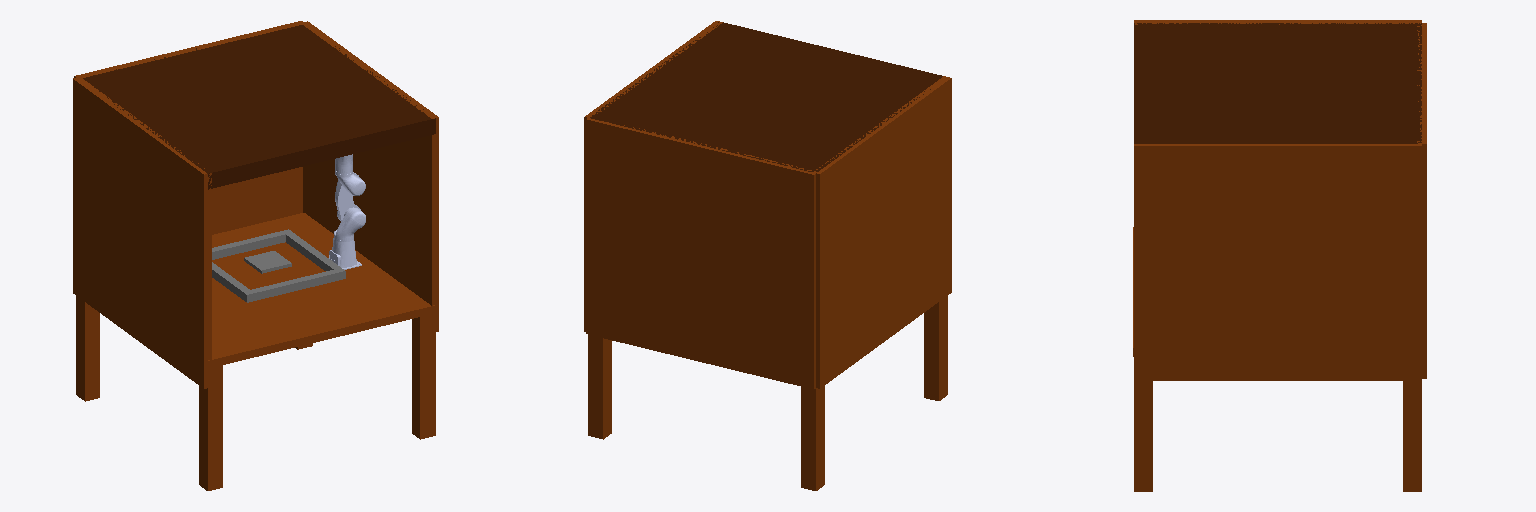
--- Render facts (derived) ---
Views: 3 orthographic renders of the robot side by side, from view 1: azimuth 30°, elevation 25°; view 2: azimuth 150°, elevation 25°; view 3: azimuth 270°, elevation 25°.
Model eva_arm with 18 links and 17 joints (6 revolute, 2 prismatic, 9 fixed), rooted at world, posed every joint at zero.
Visible links, largest first — view 1: table_link, boundary_link, base_link, plate_link, link1; view 2: table_link; view 3: table_link.
Link boxes in pixels (left/top/right/bottom): table_link: left=73, top=21, right=438, bottom=490; boundary_link: left=212, top=229, right=345, bottom=302; base_link: left=329, top=238, right=361, bottom=269; plate_link: left=244, top=251, right=291, bottom=273; link1: left=334, top=207, right=365, bottom=240; table_link: left=584, top=21, right=951, bottom=490; table_link: left=1133, top=20, right=1426, bottom=491.
Bounding box of the posed robot: 1.55 × 1.53 × 2 m (x, y, z).
Meshes: 9 distinct files referenced, 8 mesh visuals loaded (8 binary STL); not drawn: 1 (reference not matched to a file when rendering).

URDF robot description (eva_arm):
<?xml version="1.0" ?>
<!-- =================================================================================== -->
<!-- |    This document was autogenerated by xacro from eva_xyplotter_box.xacro        | -->
<!-- |    Camera was added later on, in this file, it wasn't a part of .xacro file                              | -->
<!-- =================================================================================== -->

<robot name="eva_arm">
  <!-- Base Frame - Hollow Square -->
  <link name="boundary_link">
    <inertial>
      <mass value="10"/>
      <inertia ixx="0.4" ixy="0.0" ixz="0.0" iyy="0.4" iyz="0.0" izz="0.2"/>
    </inertial>
    <!-- Front Boundary -->
    <visual>
      <origin rpy="0 0 0" xyz="0.0 0.30 0.0"/>
      <geometry>
        <box size="0.55 0.05 0.05"/>
      </geometry>
      <material name="grey">
        <color rgba="0.5 0.5 0.5 1"/>
      </material>
    </visual>
    <!-- Back Boundary -->
    <visual>
      <origin rpy="0 0 0" xyz="0.0 -0.30 0.0"/>
      <geometry>
        <box size="0.55 0.05 0.05"/>
      </geometry>
      <material name="grey">
        <color rgba="0.5 0.5 0.5 1"/>
      </material>
    </visual>
    <!-- Left Boundary -->
    <visual>
      <origin rpy="0 0 0" xyz="-0.30 0.0 0.0"/>
      <geometry>
        <box size="0.05 0.65 0.05"/>
      </geometry>
      <material name="grey">
        <color rgba="0.5 0.5 0.5 1"/>
      </material>
    </visual>
    <!-- Right Boundary -->
    <visual>
      <origin rpy="0 0 0" xyz="0.30 0.0 0.0"/>
      <geometry>
        <box size="0.05 0.65 0.05"/>
      </geometry>
      <material name="grey">
        <color rgba="0.5 0.5 0.5 1"/>
      </material>
    </visual>
    <!-- Add collision -->
    <collision>
      <origin xyz="0.0 0.30 0.0"/>
      <geometry>
        <box size="0.55 0.05 0.05"/>
      </geometry>
    </collision>

    <collision>
      <origin xyz="0.0 -0.30 0.0"/>
      <geometry>
        <box size="0.55 0.05 0.05"/>
      </geometry>
    </collision>

    <collision>
      <origin xyz="-0.30 0.0 0.0"/>
      <geometry>
        <box size="0.05 0.65 0.05"/>
      </geometry>
    </collision>

    <collision>
      <origin xyz="0.30 0.0 0.0"/>
      <geometry>
        <box size="0.05 0.65 0.05"/>
      </geometry>
    </collision>
  </link>
  <!-- Gazebo material for boundary_link -->
  <gazebo reference="boundary_link">
    <material>Gazebo/Grey</material>
  </gazebo>
  <joint name="connect_table_link_and_boundary_link" type="fixed">
    <child link="boundary_link"/>
    <parent link="table_link"/>
    <origin rpy="0 0 0" xyz="-0.7 0.7 0.95"/>
  </joint>
  <!-- Link #2 (Slider Link) -->
  <link name="slider_link">
    <inertial>
      <mass value="0.18"/>
      <inertia ixx="0.0002835" ixy="0.0" ixz="0.0" iyy="0.0002835" iyz="0.0" izz="0.000324"/>
    </inertial>
    <!-- <collision>
      <geometry>
        <box size="0.001 0.001 0.001" />
      </geometry>
    </collision> -->
    <visual>
      <geometry>
        <box size="0.001 0.001 0.001"/>
      </geometry>
      <material name="red">
        <color rgba="1 0 0 1"/>
      </material>
    </visual>
  </link>
  <!-- Link #3 (Slider Link) -->
  <link name="second_link">
    <inertial>
      <mass value="0.18"/>
      <inertia ixx="0.0002835" ixy="0.0" ixz="0.0" iyy="0.0002835" iyz="0.0" izz="0.000324"/>
    </inertial>
    <!-- <collision>
      <geometry>
        <box size="0.001 0.001 0.001" />
      </geometry>
    </collision> -->
    <visual>
      <geometry>
        <box size="0.001 0.001 0.001"/>
      </geometry>
      <material name="green">
        <color rgba="0 1 0 1"/>
      </material>
    </visual>
  </link>
  <!-- Link #4 (Plate) -->
  <link name="plate_link">
    <inertial>
      <mass value="0.5"/>
      <inertia ixx="0.01" ixy="0.0" ixz="0.0" iyy="0.01" iyz="0.0" izz="0.01"/>
    </inertial>
    <!-- <collision>
      <geometry>
        <box size="0.2 0.2 0.02" />  
      </geometry>
    </collision> -->
    <visual>
      <geometry>
        <box size="0.2 0.2 0.02"/>
      </geometry>
      <material name="gray">
        <color rgba="0.5 0.5 0.5 1"/>
      </material>
    </visual>
  </link>
  <!-- Joint for X-axis (Base to Slider) -->
  <joint name="base_to_slider_joint" type="prismatic">
    <parent link="boundary_link"/>
    <child link="slider_link"/>
    <axis xyz="1 0 0"/>
    <origin rpy="0.0 0.0 0.0" xyz="0.0 0.0 0.025"/>
    <limit effort="100.0" lower="-0.25" upper="0.25" velocity="1.0"/>
  </joint>
  <!-- Joint for Y-axis (Slider to Second Link) -->
  <joint name="slider_to_second_joint" type="prismatic">
    <parent link="slider_link"/>
    <child link="second_link"/>
    <axis xyz="0 1 0"/>
    <origin rpy="0.0 0.0 0.0" xyz="0.0 0.0 0"/>
    <limit effort="100.0" lower="-0.25" upper="0.25" velocity="1.0"/>
  </joint>
  <!-- Fixed Joint: Attach Plate to Second Link -->
  <joint name="second_to_plate_joint" type="fixed">
    <parent link="second_link"/>
    <child link="plate_link"/>
    <origin rpy="0.0 0.0 0.0" xyz="0.0 0.0 0.0"/>
    <!-- Plate positioned slightly above the second link -->
  </joint>
  <!-- Transmission for X-axis -->
  <transmission name="base_to_slider_trans">
    <type>transmission_interface/SimpleTransmission</type>
    <actuator name="motor1">
      <mechanicalReduction>1</mechanicalReduction>
    </actuator>
    <joint name="base_to_slider_joint">
      <hardwareInterface>hardware_interface/PositionJointInterface</hardwareInterface>
    </joint>
  </transmission>
  <!-- Transmission for Y-axis -->
  <transmission name="slider_to_second_trans">
    <type>transmission_interface/SimpleTransmission</type>
    <actuator name="motor2">
      <mechanicalReduction>1</mechanicalReduction>
    </actuator>
    <joint name="slider_to_second_joint">
      <hardwareInterface>hardware_interface/PositionJointInterface</hardwareInterface>
    </joint>
  </transmission>
  <!-- ros_control plugin -->
  <gazebo>
    <plugin filename="libgazebo_ros_control.so" name="gazebo_ros_control">
      <robotNamespace>/eva</robotNamespace>
      <robotSimType>gazebo_ros_control/DefaultRobotHWSim</robotSimType>
    </plugin>
  </gazebo>
  <!-- Gazebo-specific material settings to force transparency of the box in Gazebo-->
  <!-- <gazebo reference="box">
    <material>Gazebo/GreyTransparent</material>
  </gazebo> -->

  <!-- all the links of the robotic arm -->
  <gazebo reference="link1">
    <mu1>0.5</mu1>
    <mu2>0.5</mu2>
    <selfCollide>true</selfCollide>
  </gazebo>
  <gazebo reference="link2">
    <mu1>0.5</mu1>
    <mu2>0.5</mu2>
    <selfCollide>true</selfCollide>
  </gazebo>
  <gazebo reference="link3">
    <mu1>0.5</mu1>
    <mu2>0.5</mu2>
    <selfCollide>true</selfCollide>
  </gazebo>
  <gazebo reference="link4">
    <mu1>0.5</mu1>
    <mu2>0.5</mu2>
    <selfCollide>true</selfCollide>
  </gazebo>
  <gazebo reference="link5">
    <mu1>0.5</mu1>
    <mu2>0.5</mu2>
    <selfCollide>true</selfCollide>
  </gazebo>
  <gazebo reference="link6">
    <mu1>0.5</mu1>
    <mu2>0.5</mu2>
    <selfCollide>true</selfCollide>
  </gazebo>
  <!-- controllers for the robotic arm -->
  <transmission name="trans_joint01">
    <type>transmission_interface/SimpleTransmission</type>
    <joint name="joint01">
      <hardwareInterface>hardware_interface/EffortJointInterface</hardwareInterface>
    </joint>
    <actuator name="joint01_motor">
      <hardwareInterface>hardware_interface/EffortJointInterface</hardwareInterface>
      <mechanicalReduction>1</mechanicalReduction>
    </actuator>
  </transmission>
  <transmission name="trans_joint12">
    <type>transmission_interface/SimpleTransmission</type>
    <joint name="joint12">
      <hardwareInterface>hardware_interface/EffortJointInterface</hardwareInterface>
    </joint>
    <actuator name="joint12_motor">
      <hardwareInterface>hardware_interface/EffortJointInterface</hardwareInterface>
      <mechanicalReduction>1</mechanicalReduction>
    </actuator>
  </transmission>
  <transmission name="trans_joint23">
    <type>transmission_interface/SimpleTransmission</type>
    <joint name="joint23">
      <hardwareInterface>hardware_interface/EffortJointInterface</hardwareInterface>
    </joint>
    <actuator name="joint23_motor">
      <hardwareInterface>hardware_interface/EffortJointInterface</hardwareInterface>
      <mechanicalReduction>1</mechanicalReduction>
    </actuator>
  </transmission>
  <transmission name="trans_joint34">
    <type>transmission_interface/SimpleTransmission</type>
    <joint name="joint34">
      <hardwareInterface>hardware_interface/EffortJointInterface</hardwareInterface>
    </joint>
    <actuator name="joint34_motor">
      <hardwareInterface>hardware_interface/EffortJointInterface</hardwareInterface>
      <mechanicalReduction>1</mechanicalReduction>
    </actuator>
  </transmission>
  <transmission name="trans_joint45">
    <type>transmission_interface/SimpleTransmission</type>
    <joint name="joint45">
      <hardwareInterface>hardware_interface/EffortJointInterface</hardwareInterface>
    </joint>
    <actuator name="joint45_motor">
      <hardwareInterface>hardware_interface/EffortJointInterface</hardwareInterface>
      <mechanicalReduction>1</mechanicalReduction>
    </actuator>
  </transmission>
  <transmission name="trans_joint56">
    <type>transmission_interface/SimpleTransmission</type>
    <joint name="joint56">
      <hardwareInterface>hardware_interface/EffortJointInterface</hardwareInterface>
    </joint>
    <actuator name="joint56_motor">
      <hardwareInterface>hardware_interface/EffortJointInterface</hardwareInterface>
      <mechanicalReduction>1</mechanicalReduction>
    </actuator>
  </transmission>
  <!-- World link -->
  <link name="world"/>
  <!-- box without collision properties {Box height is 0.8m}
         No collision used: 
         As robotic arm is supposed to be inside the box, it is always in 
         collision with the box and never stays intact in Gazebo 
    -->
  <!-- <link name="box">
    <visual>
      <origin rpy="1.5707963267948966 0 0" xyz="0 0 0"/>
      <geometry>
        <mesh filename="package://eva_description/meshes/box.dae"/>
      </geometry>
      <material name="semi_transparent_material">
        <color rgba="0.2 0.2 0.2 0"/>
      </material>
    </visual>
    <inertial>
      <origin rpy="1.5707963267948966 0 0" xyz="0 0 0"/>
      <mass value="1.0"/>
      <inertia ixx="0.01" ixy="0.0" ixz="0.0" iyy="0.01" iyz="0.0" izz="0.01"/>
    </inertial>
  </link>
  <joint name="connect_world_and_box" type="fixed">
    <child link="box"/>
    <parent link="world"/>
    <origin rpy="0 0 0" xyz="0 0 0"/>
  </joint>  -->
  
  <!-- Table link: 
  -    It could be used instead of the box for visualization in rviz 
  -->
  <link name="table_link">
    <visual>
      <origin rpy="0 0 0" xyz="-0.75 0.75 1.95"/>  
      <geometry>
        <box size="1.5 1.5 0.1"/>  
      </geometry>
      <material name="wood">
        <color rgba="0.3 0.15 0.05 1"/>  
      </material>
    </visual>

    <visual>
      <origin rpy="0 0 0" xyz="-0.75 0.725 0.8"/> 
      <geometry>
        <box size="1.5 1.46 0.05"/> 
      </geometry>
      <material name="wood">
        <color rgba="0.55 0.27 0.07 0.1"/> 
      </material>
    </visual>

    <visual>
      <origin rpy="0 0 0" xyz="0.0 0.75 1.325"/>  
      <geometry>
        <box size="0.05 1.5 1.35"/> 
      </geometry>
      <material name="wood">
        <color rgba="0.55 0.27 0.07 0.1"/> 
      </material>
    </visual>

    <visual>
      <origin rpy="0 0 0" xyz="-1.5 0.75 1.325"/>  
      <geometry>
        <box size="0.05 1.5 1.35"/> 
      </geometry>
      <material name="wood">
        <color rgba="0.55 0.27 0.07 0.1"/> 
      </material>
    </visual>

    <visual>
      <origin rpy="0 0 0" xyz="-0.75 1.5 1.325"/>  
      <geometry>
        <box size="1.5 0.05 1.35"/> 
      </geometry>
      <material name="wood">
        <color rgba="0.55 0.27 0.07 0.1"/> 
      </material>
    </visual>

    <!-- <visual>
      <origin rpy="0 0 0" xyz="-0.75 0.0 1.3"/>  
      <geometry>
        <box size="1.5 0.05 1.35"/> 
      </geometry>
      <material name="wood">
        <color rgba="0.55 0.27 0.07 0.1"/> 
      </material>
    </visual> -->

    <visual>
      <origin rpy="0 0 0" xyz="-1.45 0.05 0.4"/>  
      <geometry>
        <box size="0.1 0.1 0.8"/>  
      </geometry>
      <material name="wood">
        <color rgba="0.55 0.27 0.07 1"/>  
      </material>
    </visual>

    <visual>
      <origin rpy="0 0 0" xyz="-0.05 0.05 0.4"/>  
      <geometry>
        <box size="0.1 0.1 0.8"/>  
      </geometry>
      <material name="wood">
        <color rgba="0.55 0.27 0.07 1"/>  
      </material>
    </visual>

    <visual>
      <origin rpy="0 0 0" xyz="-0.05 1.45 0.4"/>  
      <geometry>
        <box size="0.1 0.1 0.8"/>  
      </geometry>
      <material name="wood">
        <color rgba="0.55 0.27 0.07 1"/>  
      </material>
    </visual>

    <visual>
      <origin rpy="0 0 0" xyz="-1.45 1.45 0.4"/>  
      <geometry>
        <box size="0.1 0.1 0.8"/>  
      </geometry>
      <material name="wood">
        <color rgba="0.55 0.27 0.07 1"/>  
      </material>
    </visual>

    <inertial>
      <origin rpy="0 0 0" xyz="-0.75 0.75 0.8"/> 
      <mass value="10.0"/> 
      <inertia ixx="0.1" ixy="0.0" ixz="0.0" iyy="0.1" iyz="0.0" izz="0.1"/> 
    </inertial>
  </link>

  <joint name="world_to_table_joint" type="fixed">
    <parent link="world"/>
    <child link="table_link"/>
    <origin xyz="0.0 0.0 0.0" rpy="0 0 0"/> 
  </joint>

  <gazebo reference="table_link">
      <material>Gazebo/Grey</material>
  </gazebo>

  <!-- Table link properties ends here -->

  
  <!-- All the links and joints of the Robotic Arm -->
  <link name="base_link">
    <gravity>0</gravity>
    <inertial>
      <origin rpy="0 0 0" xyz="-0.00079256 0.072247 -4.2906E-06"/>
      <mass value="2.2163"/>
      <inertia ixx="0.0065308" ixy="-2.9126E-05" ixz="-1.2386E-06" iyy="0.0051738" iyz="-5.4387E-07" izz="0.0065939"/>
    </inertial>
    <visual>
      <origin rpy="0 0 0" xyz="0 0 0"/>
      <geometry>
        <mesh filename="package://eva_description/meshes/base_link.STL"/>
      </geometry>
      <material name="">
        <color rgba="0.79216 0.81961 0.93333 1"/>
      </material>
    </visual>
    <collision>
      <origin rpy="0 0 0" xyz="0 0 0"/>
      <geometry>
        <mesh filename="package://eva_description/meshes/base_link.STL"/>
      </geometry>
    </collision>
  </link>
  <joint name="box_to_base_link" type="fixed">
    <origin rpy="0 0 0" xyz="-0.2 0.7 0.85"/>
    <parent link="table_link"/>
    <!-- change "box" to "table_link" and vice verse if not using the box-->
    <child link="base_link"/>
  </joint>
  <link name="link1">
    <gravity>0</gravity>
    <inertial>
      <origin rpy="0 0 0" xyz="0.033792 0.10158 0.028608"/>
      <mass value="1.3679"/>
      <inertia ixx="0.0024595" ixy="-0.0008869" ixz="-0.00013245" iyy="0.0021904" iyz="-0.00017806" izz="0.00385"/>
    </inertial>
    <visual>
      <origin rpy="0 0 0" xyz="0 0 0"/>
      <geometry>
        <mesh filename="package://eva_description/meshes/link1.STL"/>
      </geometry>
      <material name="">
        <color rgba="0.79216 0.81961 0.93333 1"/>
      </material>
    </visual>
    <collision>
      <origin rpy="0 0 0" xyz="0 0 0"/>
      <geometry>
        <mesh filename="package://eva_description/meshes/link1.STL"/>
      </geometry>
    </collision>
  </link>
  <joint name="joint01" type="revolute">
    <origin rpy="1.5708 0 0" xyz="0 0 0.151"/>
    <parent link="base_link"/>
    <child link="link1"/>
    <axis xyz="0 1 0"/>
    <limit effort="100" lower="-3.12414" upper="3.12414" velocity="2.16"/>
    <dynamics damping="0.8" friction="10"/>
  </joint>
  <link name="link2">
    <gravity>0</gravity>
    <inertial>
      <origin rpy="0 0 0" xyz="-0.011054 0.095532 -0.041105"/>
      <mass value="2.1464"/>
      <inertia ixx="0.019567" ixy="0.00037463" ixz="0.00015985" iyy="0.0033754" iyz="-7.8572E-05" izz="0.021425"/>
    </inertial>
    <visual>
      <origin rpy="0 0 0" xyz="0 0 0"/>
      <geometry>
        <mesh filename="package://eva_description/meshes/link2.STL"/>
      </geometry>
      <material name="">
        <color rgba="0.79216 0.81961 0.93333 1"/>
      </material>
    </visual>
    <collision>
      <origin rpy="0 0 0" xyz="0 0 0"/>
      <geometry>
        <mesh filename="package://eva_description/meshes/link2.STL"/>
      </geometry>
    </collision>
  </link>
  <joint name="joint12" type="revolute">
    <origin rpy="0 0 0" xyz="0.056 0.1323 0"/>
    <parent link="link1"/>
    <child link="link2"/>
    <axis xyz="0 0 1"/>
    <limit effort="150" lower="-2.70526" upper="1.22173" velocity="1.0"/>
    <dynamics damping="0.8" friction="10"/>
  </joint>
  <link name="link3">
    <gravity>0</gravity>
    <inertial>
      <origin rpy="0 0 0" xyz="-0.017599 0.021043 0.028835"/>
      <mass value="1.0412"/>
      <inertia ixx="0.0014019" ixy="0.0004906" ixz="-9.7827E-05" iyy="0.0013971" iyz="0.00010907" izz="0.0022277"/>
    </inertial>
    <visual>
      <origin rpy="0 0 0" xyz="0 0 0"/>
      <geometry>
        <mesh filename="package://eva_description/meshes/link3.STL"/>
      </geometry>
      <material name="">
        <color rgba="0.79216 0.81961 0.93333 1"/>
      </material>
    </visual>
    <collision>
      <origin rpy="0 0 0" xyz="0 0 0"/>
      <geometry>
        <mesh filename="package://eva_description/meshes/link3.STL"/>
      </geometry>
    </collision>
  </link>
  <joint name="joint23" type="revolute">
    <origin rpy="0 0 0" xyz="0 0.205 0"/>
    <parent link="link2"/>
    <child link="link3"/>
    <axis xyz="0 0 1"/>
    <limit effort="100" lower="-2.79253" upper="0.785398" velocity="1"/>
    <dynamics damping="0.8" friction="10"/>
  </joint>
  <link name="link4">
    <gravity>0</gravity>
    <inertial>
      <origin rpy="0 0 0" xyz="6.3485E-05 0.082453 -0.0083688"/>
      <mass value="1.2151"/>
      <inertia ixx="0.0030376" ixy="-7.1559E-06" ixz="8.224E-07" iyy="0.0010632" iyz="0.00042179" izz="0.0034635"/>
    </inertial>
    <visual>
      <origin rpy="0 0 0" xyz="0 0 0"/>
      <geometry>
        <mesh filename="package://eva_description/meshes/link4.STL"/>
      </geometry>
      <material name="">
        <color rgba="0.79216 0.81961 0.93333 1"/>
      </material>
    </visual>
    <collision>
      <origin rpy="0 0 0" xyz="0 0 0"/>
      <geometry>
        <mesh filename="package://eva_description/meshes/link4.STL"/>
      </geometry>
    </collision>
  </link>
  <joint name="joint34" type="revolute">
    <origin rpy="3.1416 0 3.1416" xyz="-0.056 0.09401 0"/>
    <parent link="link3"/>
    <child link="link4"/>
    <axis xyz="0 1 0"/>
    <limit effort="30" lower="-3.12414" upper="3.12414" velocity="1"/>
    <dynamics damping="0.8" friction="10"/>
  </joint>
  <link name="link5">
    <gravity>0</gravity>
    <inertial>
      <origin rpy="0 0 0" xyz="0.033633 0.0068289 0.0038977"/>
      <mass value="1.1633"/>
      <inertia ixx="0.0014093" ixy="-7.9912E-05" ixz="1.6075E-05" iyy="0.00064393" iyz="7.6612E-06" izz="0.0012682"/>
    </inertial>
    <visual>
      <origin rpy="0 0 0" xyz="0 0 0"/>
      <geometry>
        <mesh filename="package://eva_description/meshes/link5.STL"/>
      </geometry>
      <material name="">
        <color rgba="0.79216 0.81961 0.93333 1"/>
      </material>
    </visual>
    <collision>
      <origin rpy="0 0 0" xyz="0 0 0"/>
      <geometry>
        <mesh filename="package://eva_description/meshes/link5.STL"/>
      </geometry>
    </collision>
  </link>
  <joint name="joint45" type="revolute">
    <origin rpy="0 0 0" xyz="0 0.1966 0"/>
    <parent link="link4"/>
    <child link="link5"/>
    <axis xyz="0 0 1"/>
    <limit effort="45" lower="-0.174533" upper="2.70526" velocity="1"/>
    <dynamics damping="0.8" friction="10"/>
  </joint>
  <link name="link6">
    <gravity>0</gravity>
    <inertial>
      <origin rpy="0 0 0" xyz="0.00010738 0.012024 3.1104E-05"/>
      <mass value="0.089988"/>
      <inertia ixx="3.1549E-05" ixy="9.9188E-08" ixz="-3.6831E-08" iyy="5.6401E-05" iyz="-1.5979E-09" izz="3.1789E-05"/>
    </inertial>
    <visual>
      <origin rpy="0 0 0" xyz="0 0 0"/>
      <geometry>
        <mesh filename="package://eva_description/meshes/link6.STL"/>
      </geometry>
      <material name="">
        <color rgba="0.79216 0.81961 0.93333 1"/>
      </material>
    </visual>
    <collision>
      <origin rpy="0 0 0" xyz="0 0 0"/>
      <geometry>
        <mesh filename="package://eva_description/meshes/link6.STL"/>
      </geometry>
    </collision>
  </link>
  <joint name="joint56" type="revolute">
    <origin rpy="0 0 0" xyz="0.065 0.0741 0"/>
    <parent link="link5"/>
    <child link="link6"/>
    <axis xyz="0 1 0"/>
    <limit effort="30" lower="-3.12414" upper="3.12414" velocity="1"/>
    <dynamics damping="0.8" friction="10"/>
  </joint>
  <link name="light_link">
    <gravity>0</gravity>
    <inertial>
      <origin rpy="0 0 0" xyz="0.000 0.0 0.0"/>
      <mass value="0.089988"/>
      <inertia ixx="3.1549E-05" ixy="9.9188E-08" ixz="-3.6831E-08" iyy="5.6401E-05" iyz="-1.5979E-09" izz="3.1789E-05"/>
    </inertial>
    <visual>
      <origin rpy="0 0 0" xyz="0 0 0"/>
      <geometry>
        <!-- filename="package://eva_description/meshes/light_assembly.STL" /> -->
        <mesh filename="package://eva_description/meshes/Led_plate_assembly.STL" scale="0.001 0.001 0.001"/>
      </geometry>
      <material name="">
        <color rgba="0.79216 0.81961 0.93333 1"/>
      </material>
    </visual>
    <collision>
      <origin rpy="0 0 0" xyz="0 0 0"/>
      <geometry>
        <!-- filename="package://eva_description/meshes/light_assembly.STL" /> -->
        <mesh filename="package://eva_description/meshes/Led_plate_assembly.STL" scale="0.001 0.001 0.001"/>
      </geometry>
    </collision>
  </link>
  <joint name="joint67" type="fixed">
    <!-- <origin xyz="0.12 0.025 -0.0325" rpy="-${pi/2} ${pi} 0.0" /> -->
    <origin rpy="-1.5707963267948966 0.0 0.0" xyz="-0.025 0.028 0.025"/>
    <parent link="link6"/>
    <child link="light_link"/>
  </joint>
  <link name="ee_link"/>
  <joint name="ee_link_joint" type="fixed">
    <origin rpy="-1.5707963267948966 3.141592653589793 0" xyz="0.11 0.025 0.06"/>
    <!-- <origin xyz="0.05 0.03 0.175" rpy="-${pi/2} ${pi} 0.0"/> -->
    <parent link="light_link"/>
    <child link="ee_link"/>
  </joint>


<link name="L_shape">
  <visual>
    <origin xyz="-0.0745 0 0.125" rpy="0 0 0"/>
    <geometry>
      <box size="0.15 0.05 0.005"/> 
    </geometry>
    <material name="">
      <color rgba="0.79216 0.81961 0.93333 1"/>
    </material>
  </visual>
  <collision>
    <origin xyz="-0.0745 0 0.125" rpy="0 0 0"/>
    <geometry>
      <box size="0.15 0.05 0.005"/>
    </geometry>
  </collision>

  <visual>
    <origin xyz="0 0 0" rpy="0 1.5708 0"/> 
    <geometry>
      <box size="0.25 0.05 0.005"/> 
    </geometry>
    <material name="">
      <color rgba="0.79216 0.81961 0.93333 1"/>
    </material>
  </visual>
  <collision>
    <origin xyz="0 0 0" rpy="0 1.5708 0"/>
    <geometry>
      <box size="0.25 0.05 0.005"/>
    </geometry>
  </collision>
</link>

<joint name="L_shape_joint_with_table" type="fixed">
  <parent link="table_link"/>
  <child link="L_shape"/>
  <origin xyz="-0.745 0.745 1.77" rpy="0 0 0"/> <!-- Attach L-shape to the top of the table -->
</joint>


<!-- Camera Top-->
  <link name="camera_link">
      <visual>
          <geometry>
              <mesh filename="package://eva_description/meshes/Manta_TypeB_C-Mount.stl" scale="0.002 0.002 0.002"/>
          </geometry>
      </visual>
      <material name="">
          <color rgba="0.79216 0.81961 0.93333 1"/>
      </material>
  </link>

  <link name="camera_link_optical"></link>

  <joint name="camera_joint" type="fixed">
      <parent link="table_link"/>
      <child link="camera_link"/>
      <origin xyz="-0.715 0.745 1.64" rpy="0 0 1.5708"/>
  </joint>

  <joint name="camera_optical_joint" type="fixed">
      <parent link="camera_link"/>
      <child link="camera_link_optical"/>
      <origin xyz="0 0 0" rpy="0 0 0"/>
  </joint>

    <!-- camera -->
    <gazebo reference="camera_link">
      <sensor type="camera" name="camera_top">
        <update_rate>30.0</update_rate>
        <camera name="head">
          <horizontal_fov>1.089</horizontal_fov>
          <image>
            <width>640</width>
            <height>480</height>
            <format>R8G8B8</format>
          </image>
          <clip>
            <near>0.05</near>
            <far>8.0</far>
          </clip>
          <noise>
            <type>gaussian</type>
            <mean>0.0</mean>
            <stddev>0.007</stddev>
          </noise>
        </camera>
        <plugin name="camera_controller" filename="libgazebo_ros_camera.so">
          <alwaysOn>true</alwaysOn>
          <updateRate>0.0</updateRate>
          <cameraName>camera_top</cameraName>
          <imageTopicName>image_raw</imageTopicName>
          <cameraInfoTopicName>camera_info</cameraInfoTopicName>
          <frameName>camera_link</frameName>
          <hackBaseline>0.07</hackBaseline>
          <distortionK1>0.0</distortionK1>
          <distortionK2>0.0</distortionK2>
          <distortionK3>0.0</distortionK3>
          <distortionT1>0.0</distortionT1>
          <distortionT2>0.0</distortionT2>
        </plugin>
      </sensor>
    </gazebo>

</robot>
